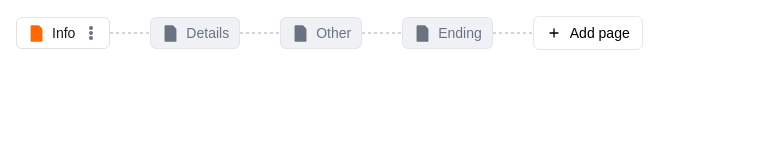
it: PageNavigationContainer › Existing Functionality › should add new page when clicking add page button
The image size is (781, 160).
Click the button "Add page" at (588, 33), box [533,16,643,50]
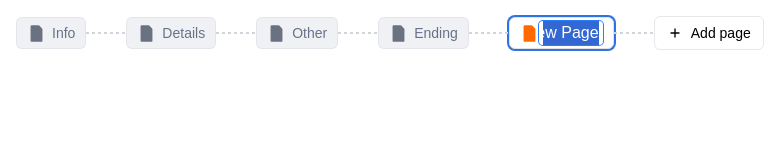
Check: the field showing "New Page" is shown, box [539,21,603,45]
